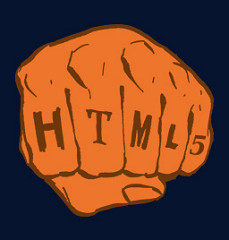fist: (25, 36, 201, 204)
